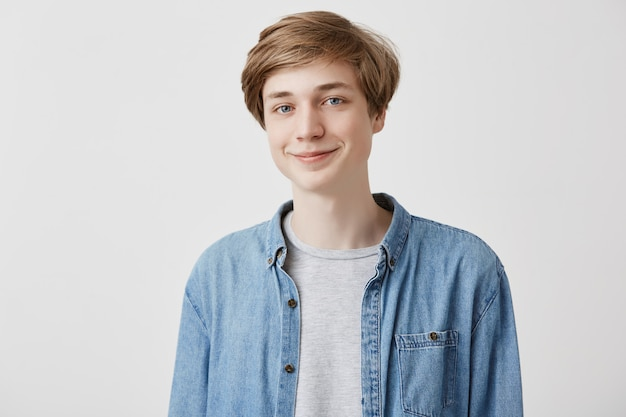teen: (217, 1, 415, 220)
